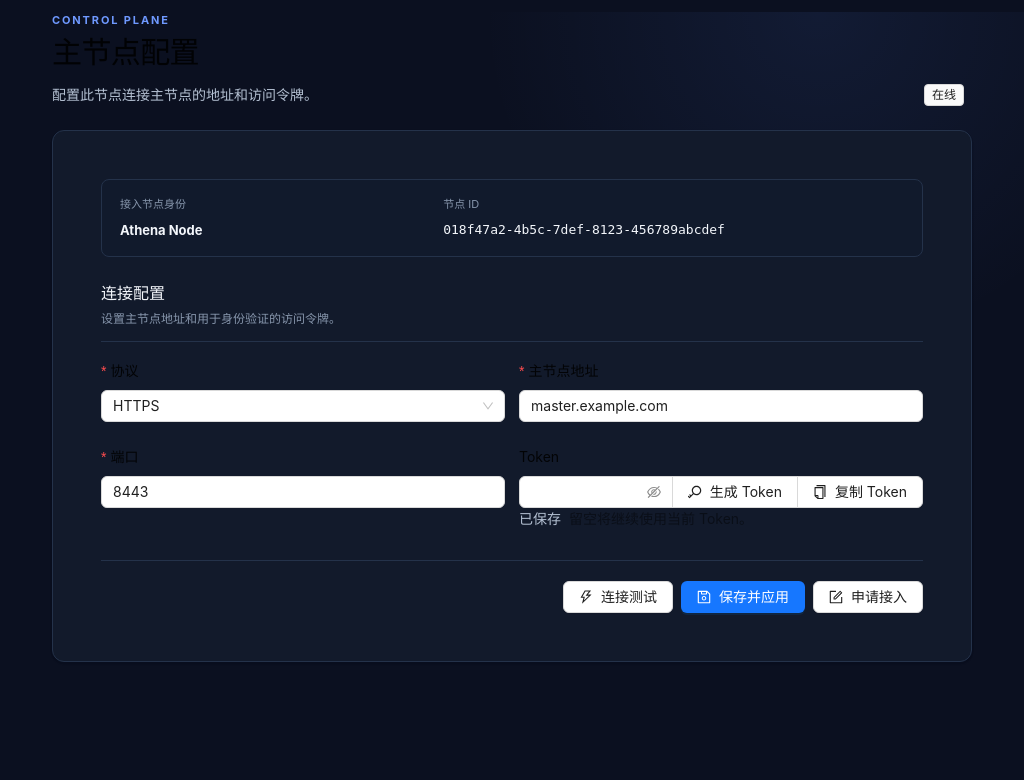
Test: replaces unstructured English connection errors with a Chinese operator hint
Expected: the field showing "master.example.com" is shown, [519,390,923,422]
Click the button "连接测试": (618, 597) [563,581,673,613]
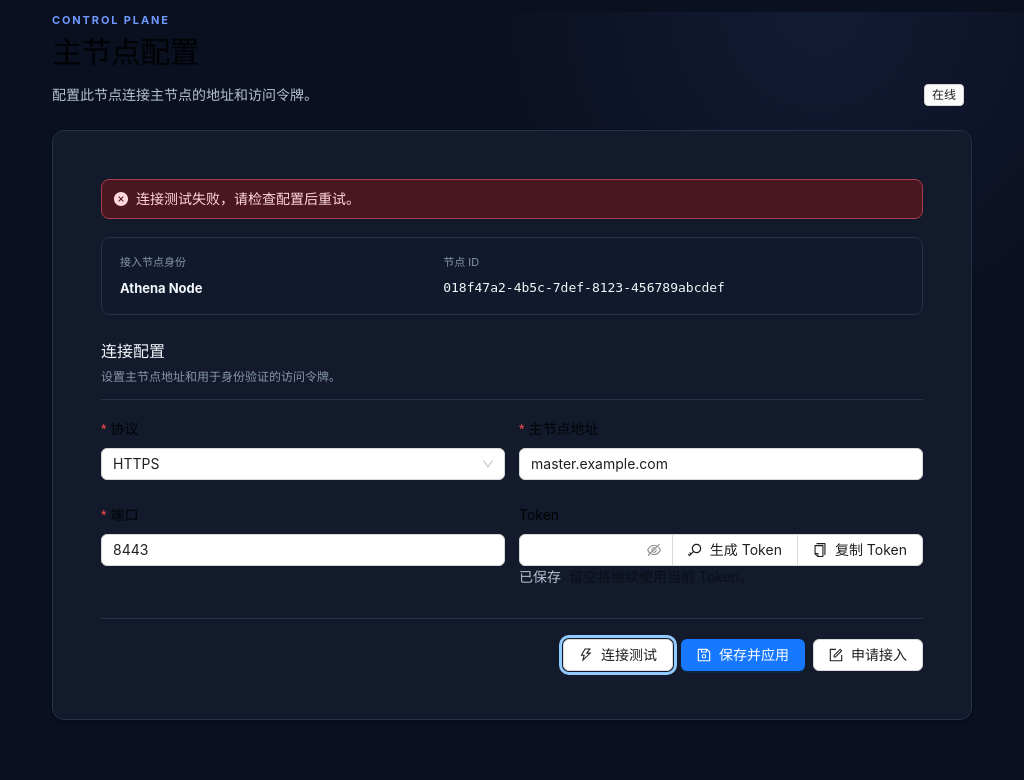
Expected: the text "连接测试失败，请检查配置后重试。" is shown, [136,190,360,207]
